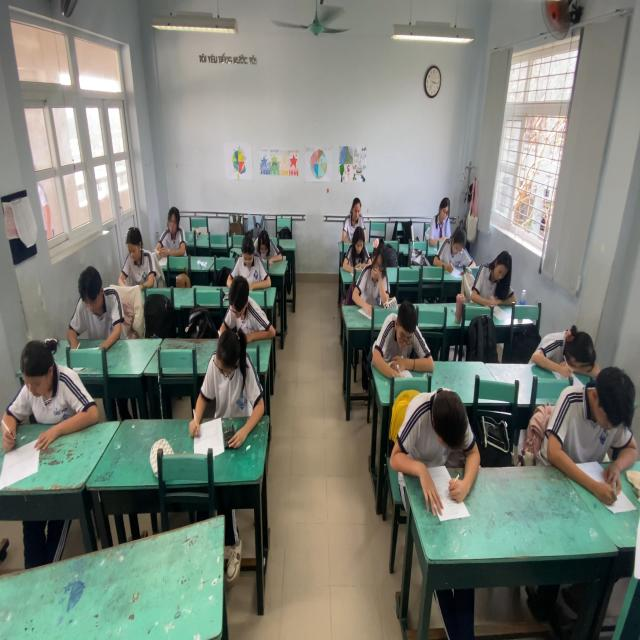not_cheating: (2, 335, 96, 448), (546, 369, 640, 475), (395, 386, 481, 490), (206, 334, 263, 418), (68, 268, 120, 352), (529, 324, 597, 383), (383, 296, 434, 369), (218, 278, 264, 338), (467, 248, 516, 302), (360, 248, 393, 307), (156, 203, 191, 255), (120, 227, 152, 283), (230, 234, 260, 283), (438, 230, 473, 269), (430, 193, 455, 244), (253, 227, 284, 265), (342, 227, 370, 269), (342, 193, 364, 227)
